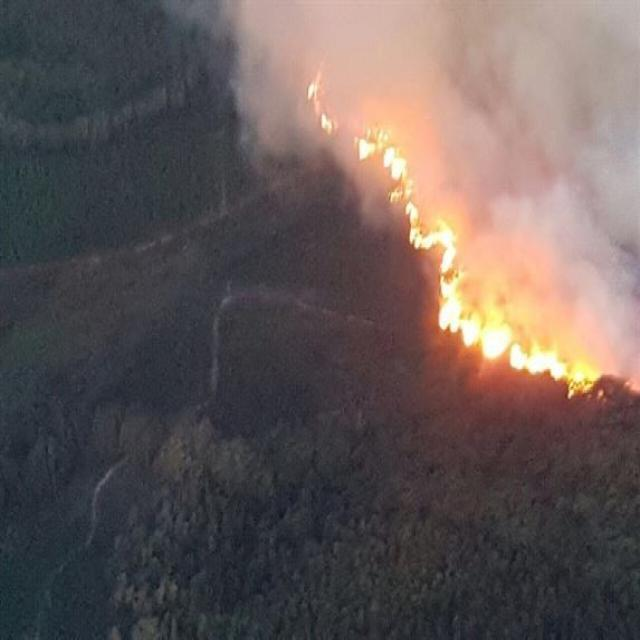Fire: (406, 252, 599, 395)
Smoke: (324, 0, 631, 340)
